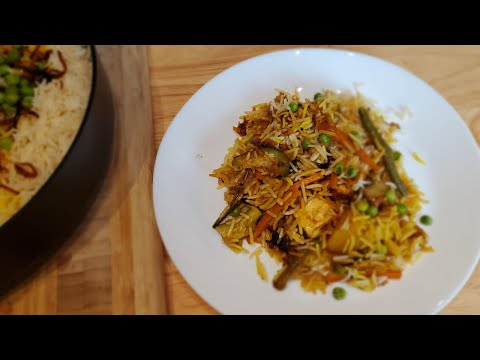Biryani: (189, 67, 450, 291)
